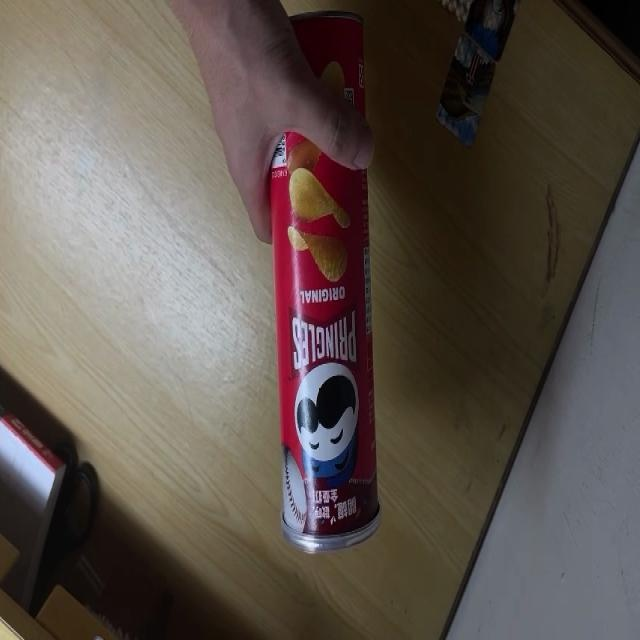Pringles: (270, 11, 381, 552)
